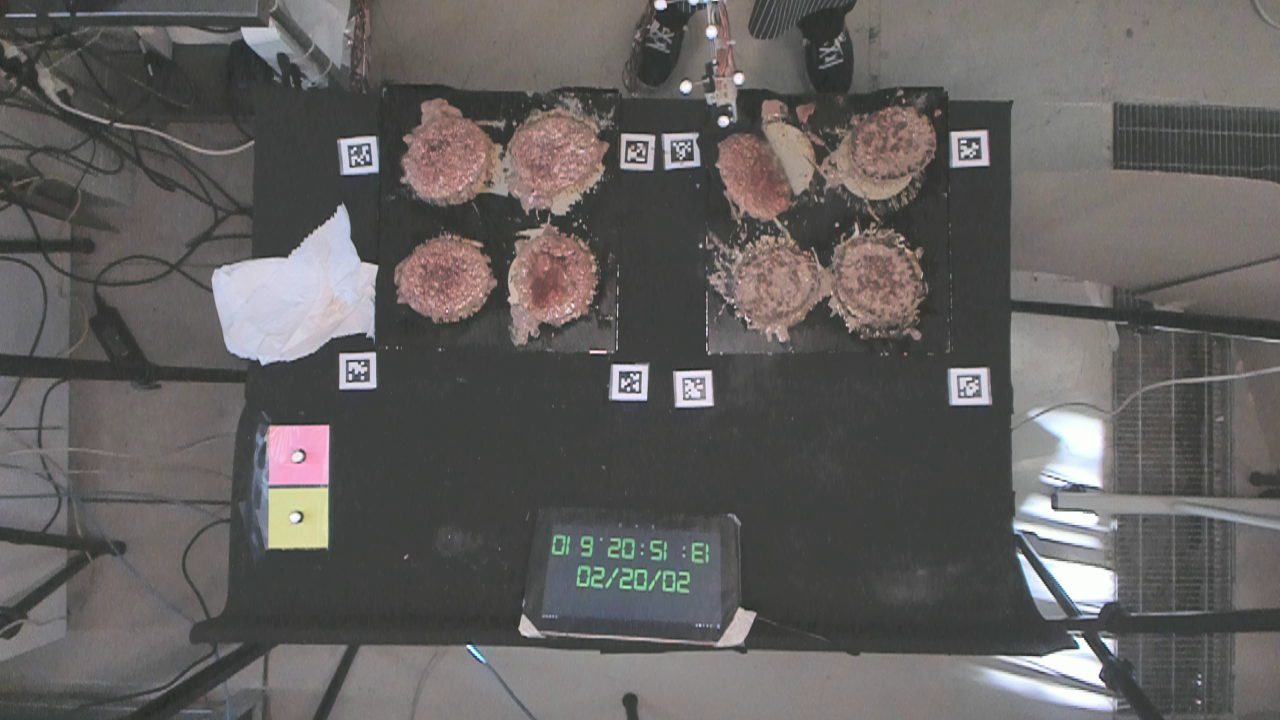hamburger: (393, 236, 494, 324), (831, 231, 920, 328), (514, 231, 602, 327), (407, 110, 494, 203), (511, 119, 601, 201), (716, 135, 794, 215), (737, 246, 816, 323), (859, 107, 936, 180)
marker: (265, 426, 329, 484)
